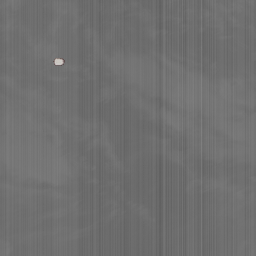Target: (52, 55, 65, 67)
